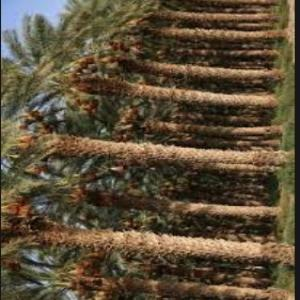palm tree: (0, 0, 294, 299)
